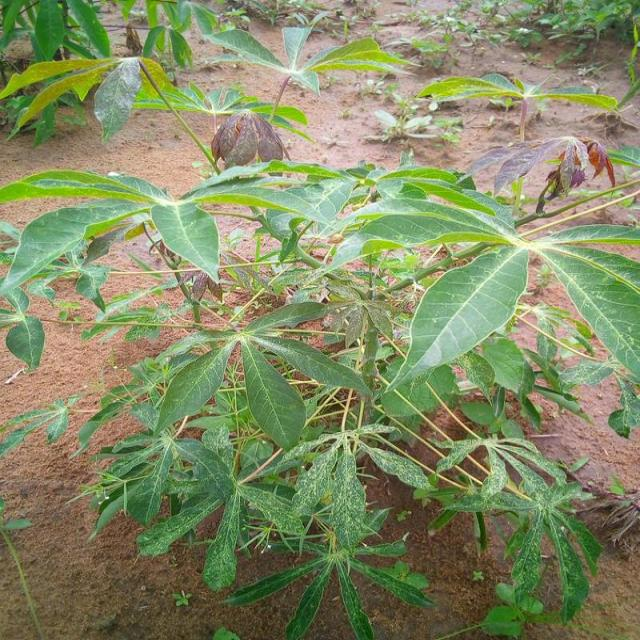cassava leaf: (382, 243, 529, 398), (239, 335, 306, 451)
